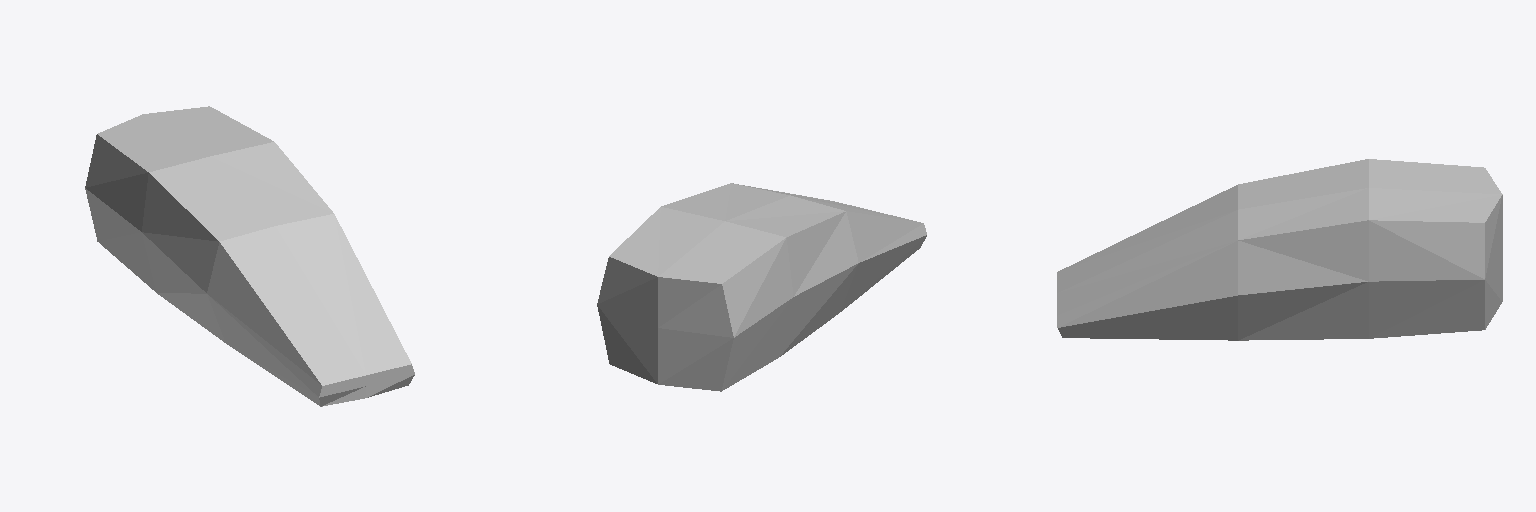
The model's file is Salmon.obj.
3 renders of one model, left to right at view 1: azimuth 30°, elevation 25°; view 2: azimuth 150°, elevation 25°; view 3: azimuth 270°, elevation 25°, orthographic.
Visible parts, largest first — view 1: pCube2; view 2: pCube2; view 3: pCube2.
Part boxes in pixels (bbox=[...]): pCube2: bbox=[85, 106, 414, 406]; pCube2: bbox=[597, 183, 926, 391]; pCube2: bbox=[1057, 159, 1502, 340].
Size of the model in its own units: 3.23 by 2.98 by 8.91.